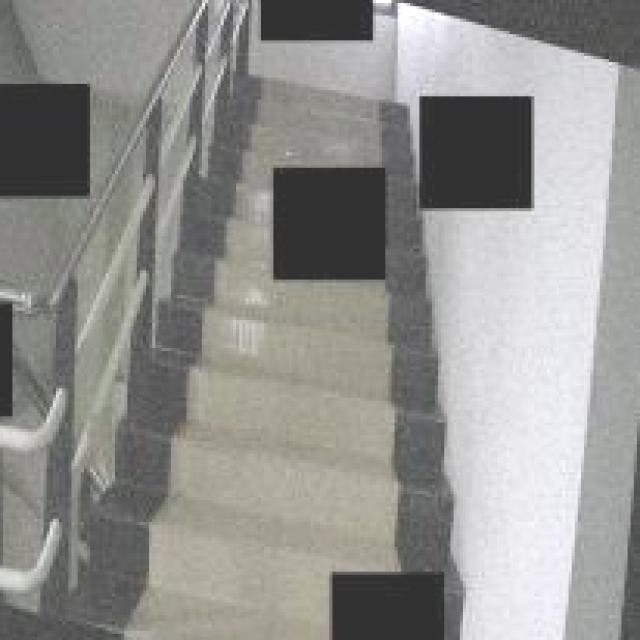upstair: (169, 302, 324, 640)
